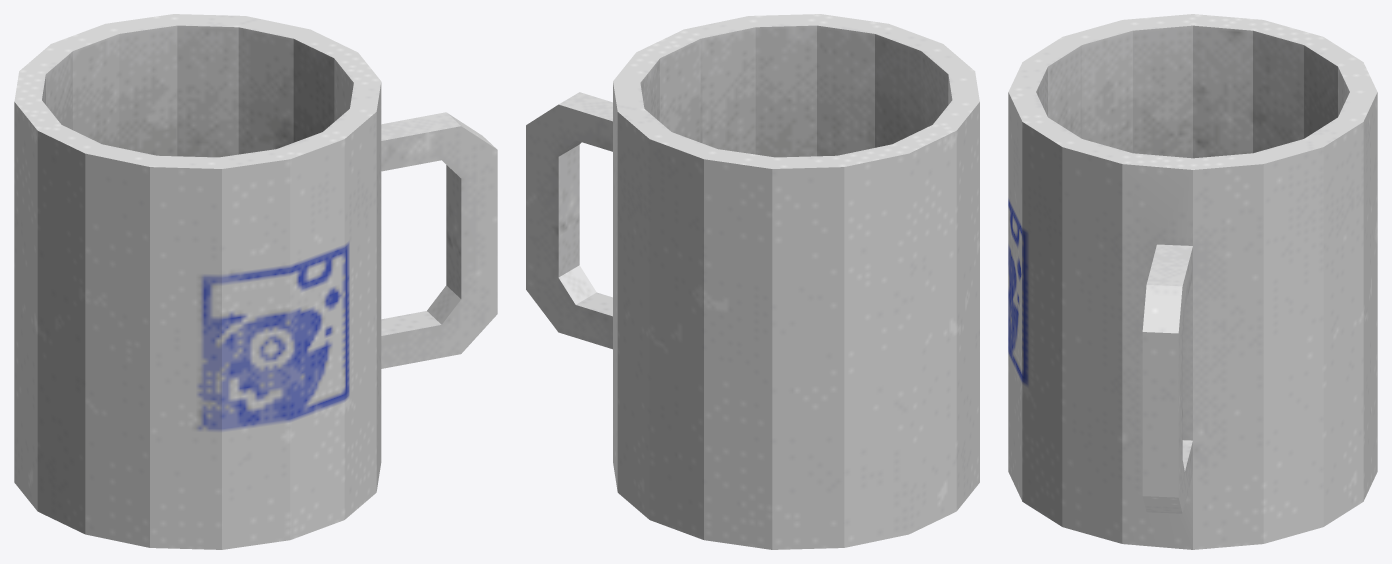
Rendered from cup_lod1.fbx.
3 renders of one model, left to right at view 1: azimuth 30°, elevation 25°; view 2: azimuth 150°, elevation 25°; view 3: azimuth 270°, elevation 25°, orthographic.
Parts seen in each view (by area): view 1: cup_lod1; view 2: cup_lod1; view 3: cup_lod1.
Boxes of the visible parts, x1=… form: cup_lod1: x1=14, y1=14, x2=497, y2=549; cup_lod1: x1=526, y1=14, x2=979, y2=549; cup_lod1: x1=1008, y1=14, x2=1377, y2=549.
Size of the model in its own units: 72.77 by 60.51 by 53.28.
